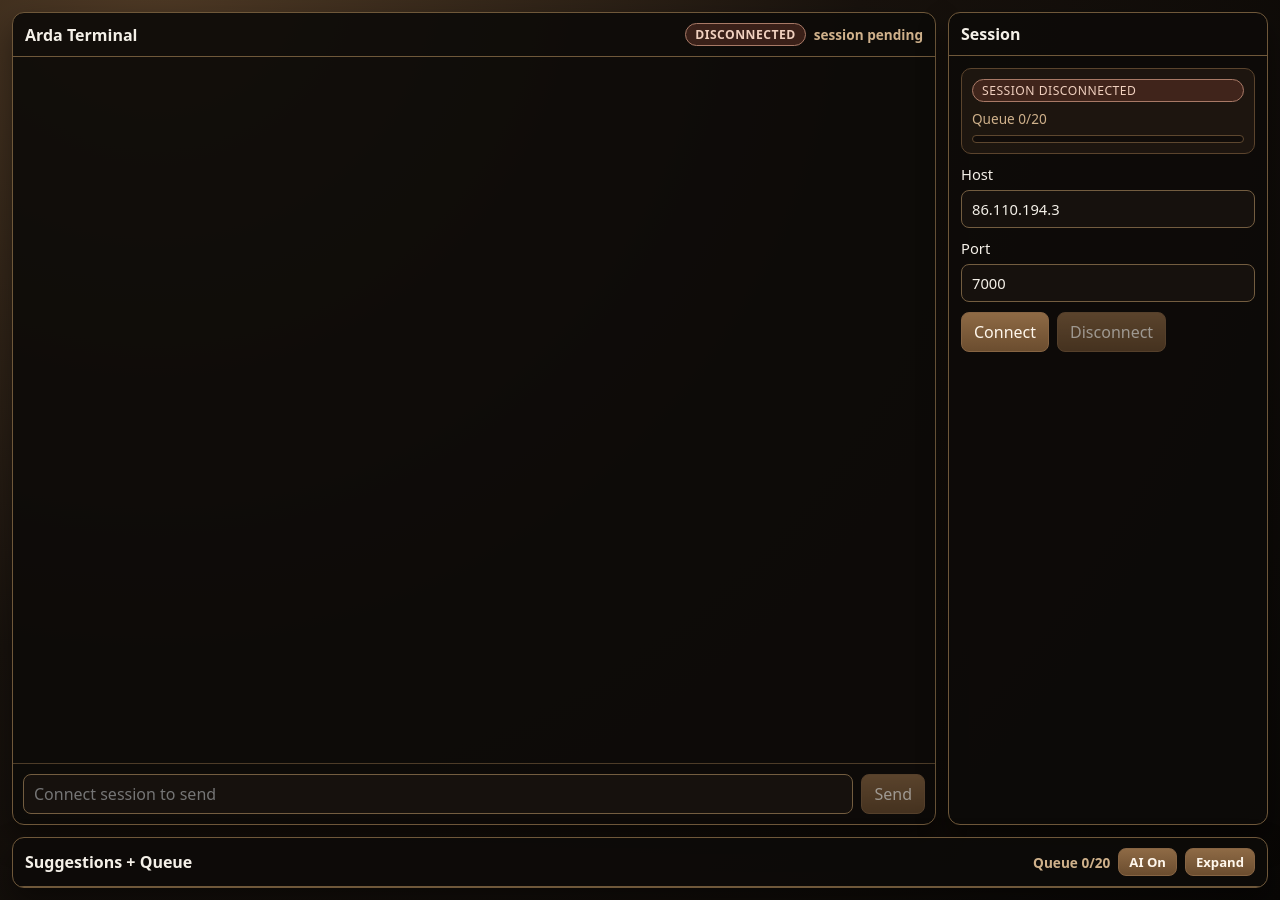
it: App suggestions › shows backend suggestion failure message in UI
Click the button "Expand" at (1220, 862), box [1185, 848, 1255, 876]
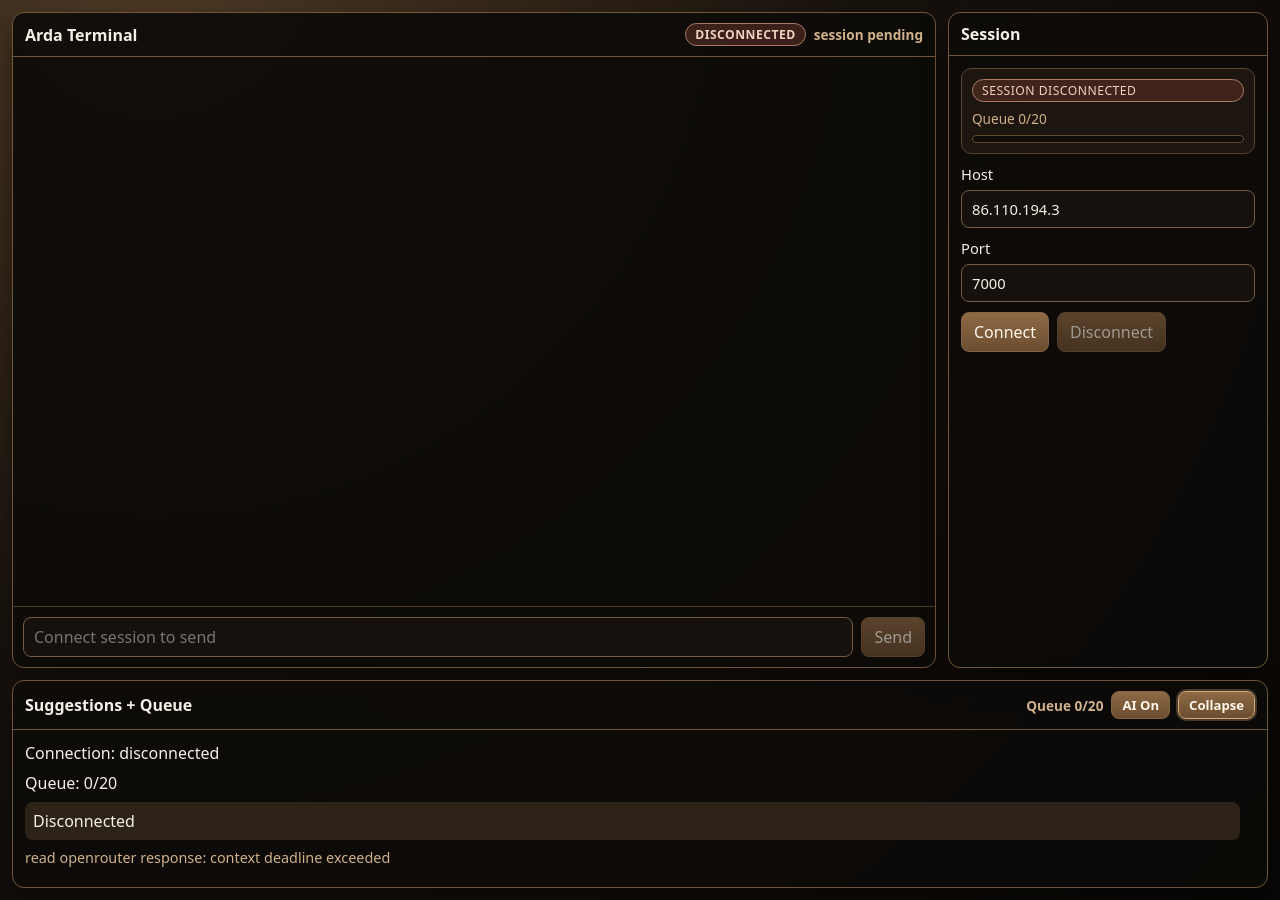
Now the text "read openrouter response: context deadline exceeded" is shown, box [25, 848, 390, 867]
